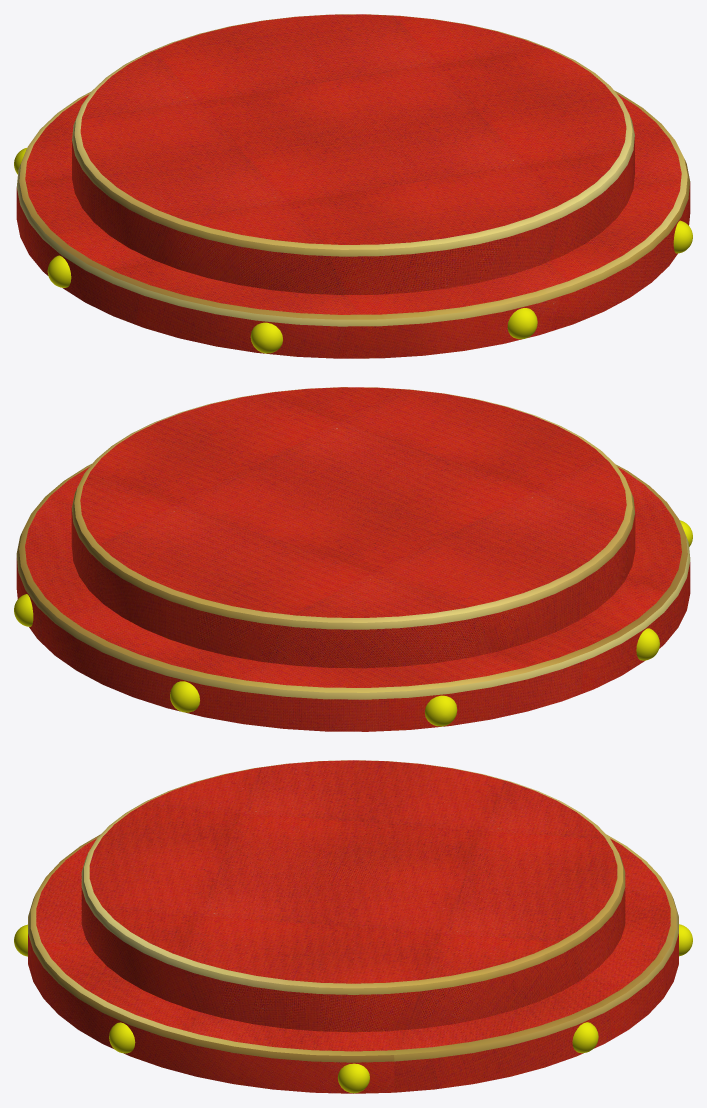
File: round platform.fbx
3 renders of one model, top to bottom at view 1: azimuth 30°, elevation 25°; view 2: azimuth 150°, elevation 25°; view 3: azimuth 270°, elevation 25°, orthographic. The views are drawn at different scales.
Visible parts, largest first — view 1: pCylinder1, pSphere6, pSphere2, pSphere3; view 2: pCylinder1, pSphere7, pSphere4, pSphere3; view 3: pCylinder1, pSphere1, pSphere8, pSphere5.
Boxes of the visible parts, x1=… form: pCylinder1: x1=16, y1=14, x2=690, y2=358; pSphere6: x1=250, y1=322, x2=282, y2=353; pSphere2: x1=507, y1=308, x2=537, y2=339; pSphere3: x1=47, y1=255, x2=71, y2=287; pCylinder1: x1=16, y1=387, x2=690, y2=731; pSphere7: x1=424, y1=695, x2=457, y2=726; pSphere4: x1=170, y1=681, x2=199, y2=712; pSphere3: x1=636, y1=628, x2=659, y2=660; pCylinder1: x1=28, y1=760, x2=678, y2=1093; pSphere1: x1=337, y1=1063, x2=369, y2=1093; pSphere8: x1=572, y1=1022, x2=598, y2=1053; pSphere5: x1=109, y1=1022, x2=135, y2=1053.
Bounding box in the file's own units: 19.36 × 2.64 × 19.36.
3 materials, 2 textured.
